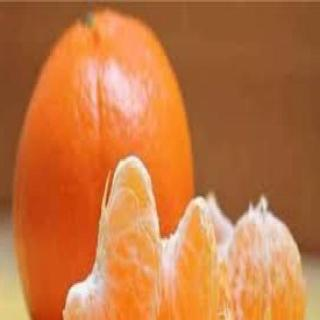orange: (8, 5, 190, 320), (65, 150, 170, 320)
